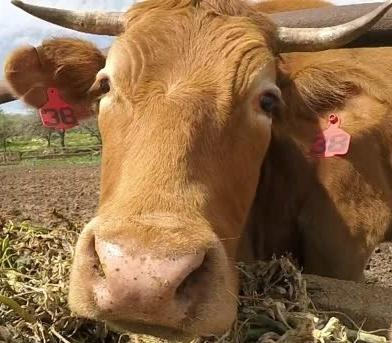muzzles: (69, 226, 239, 339)
